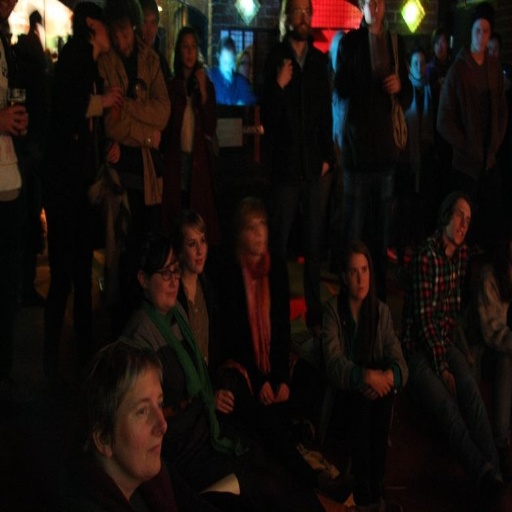hand: (371, 355, 407, 417), (0, 105, 25, 139), (214, 389, 238, 417), (102, 85, 123, 111), (277, 56, 292, 87), (103, 141, 122, 165), (441, 369, 458, 395), (383, 72, 401, 95), (259, 381, 274, 405), (275, 383, 291, 405), (194, 66, 206, 91), (151, 127, 159, 151)
